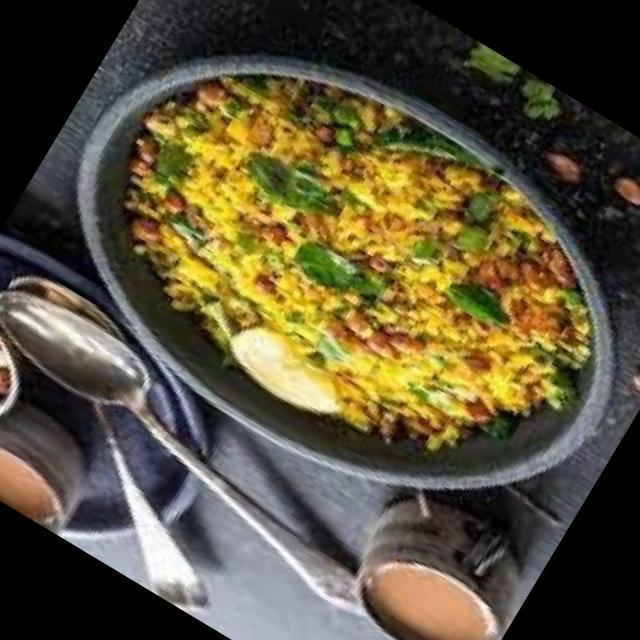poha: (59, 0, 640, 529)
